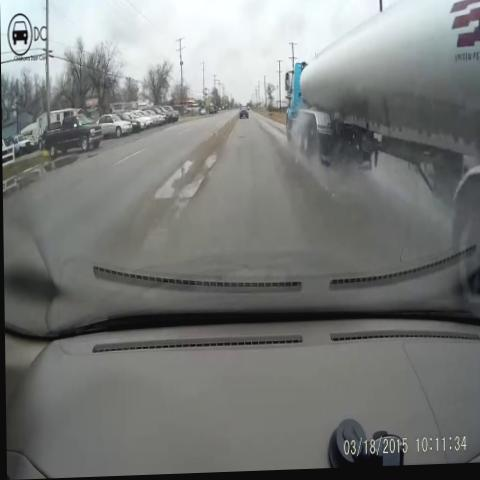pothole: (156, 144, 222, 210), (235, 130, 248, 144)
